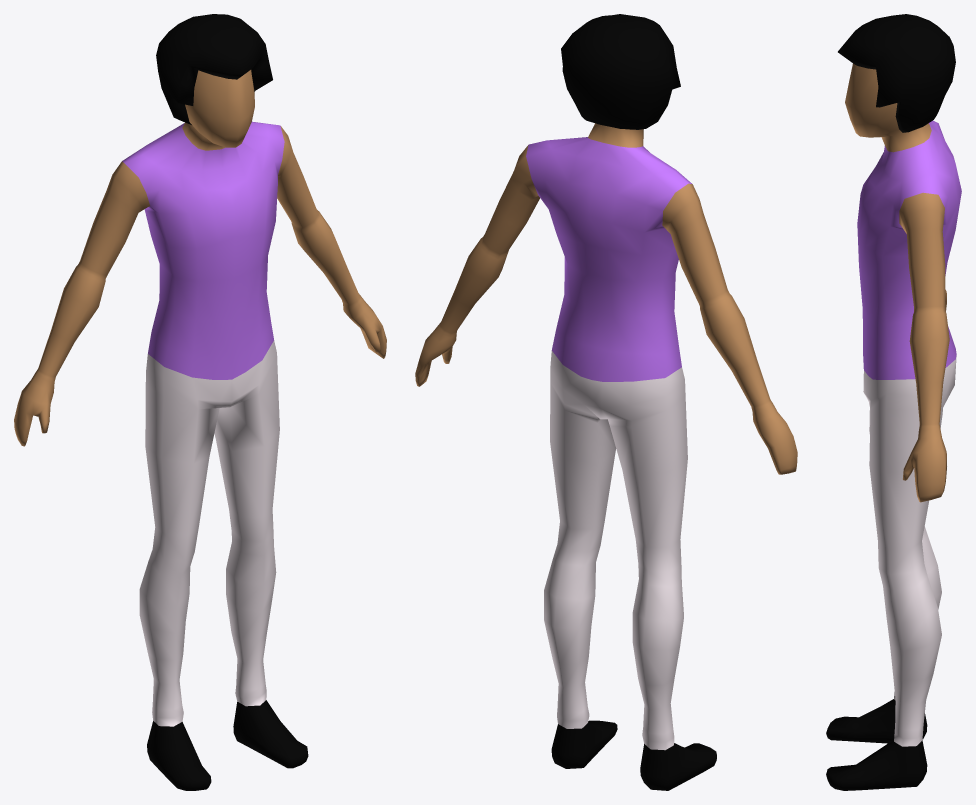
File: male.gltf
3 renders of one model, left to right at view 1: azimuth 30°, elevation 25°; view 2: azimuth 150°, elevation 25°; view 3: azimuth 270°, elevation 25°, orthographic. The views are drawn at different scales.
Visible parts, largest first — view 1: corpo.001, corpo.002; view 2: corpo.001, corpo.002; view 3: corpo.001, corpo.002.
Part boxes in pixels (x1,y1,x2,y2): corpo.001: [14, 70, 386, 790]; corpo.002: [156, 14, 272, 124]; corpo.001: [415, 123, 797, 790]; corpo.002: [561, 14, 680, 129]; corpo.001: [826, 63, 961, 790]; corpo.002: [838, 14, 955, 132].
Size of the model in its own units: 0.9682 by 1.85 by 0.3097.
